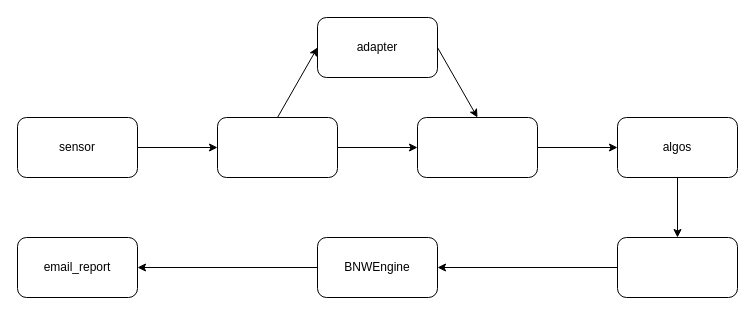
Some shapes in this 755 by 315 pixel diagram are drawn without their labels. The shapes that lost their labels are listed below. From the top down, each one's centre as x and y in pixels, then its label:
At (x=277, y=147): "listen log".
At (x=477, y=147): "parser".
At (x=677, y=267): "alerts_worker".
